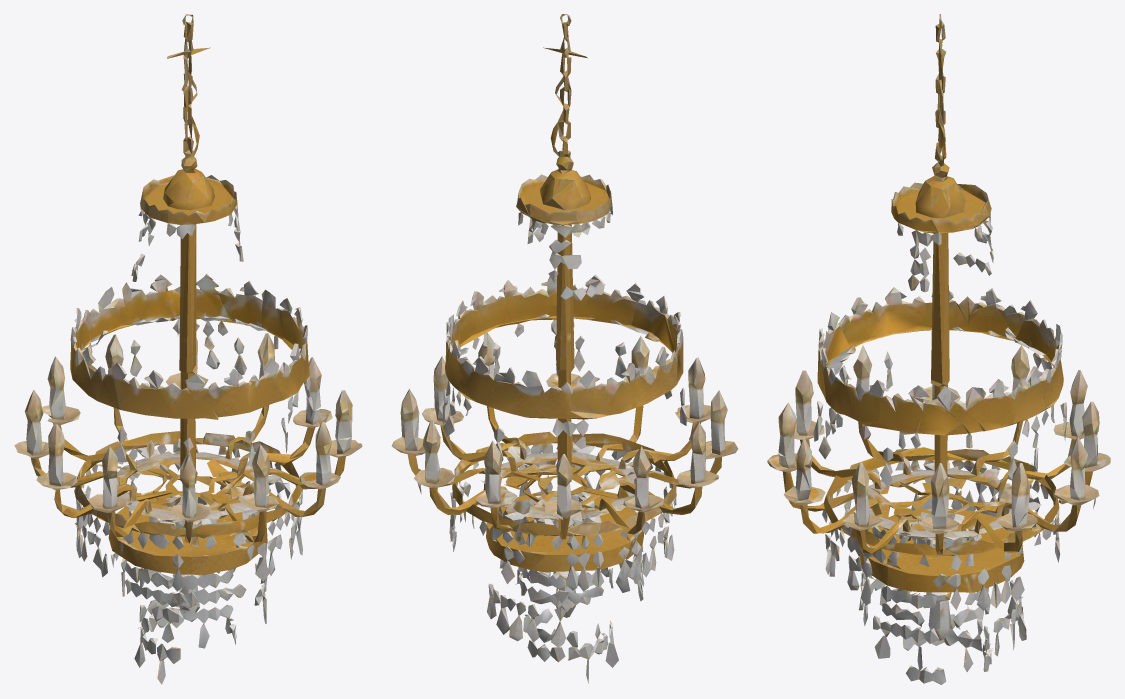
The model's file is chandelier-v1.glb.
3 renders of one model, left to right at view 1: azimuth 30°, elevation 25°; view 2: azimuth 150°, elevation 25°; view 3: azimuth 270°, elevation 25°, orthographic. The views are drawn at different scales.
Bounding box in the file's own units: 1.4 × 3.01 × 1.39.
Materials: 1 (1 with a texture image).
